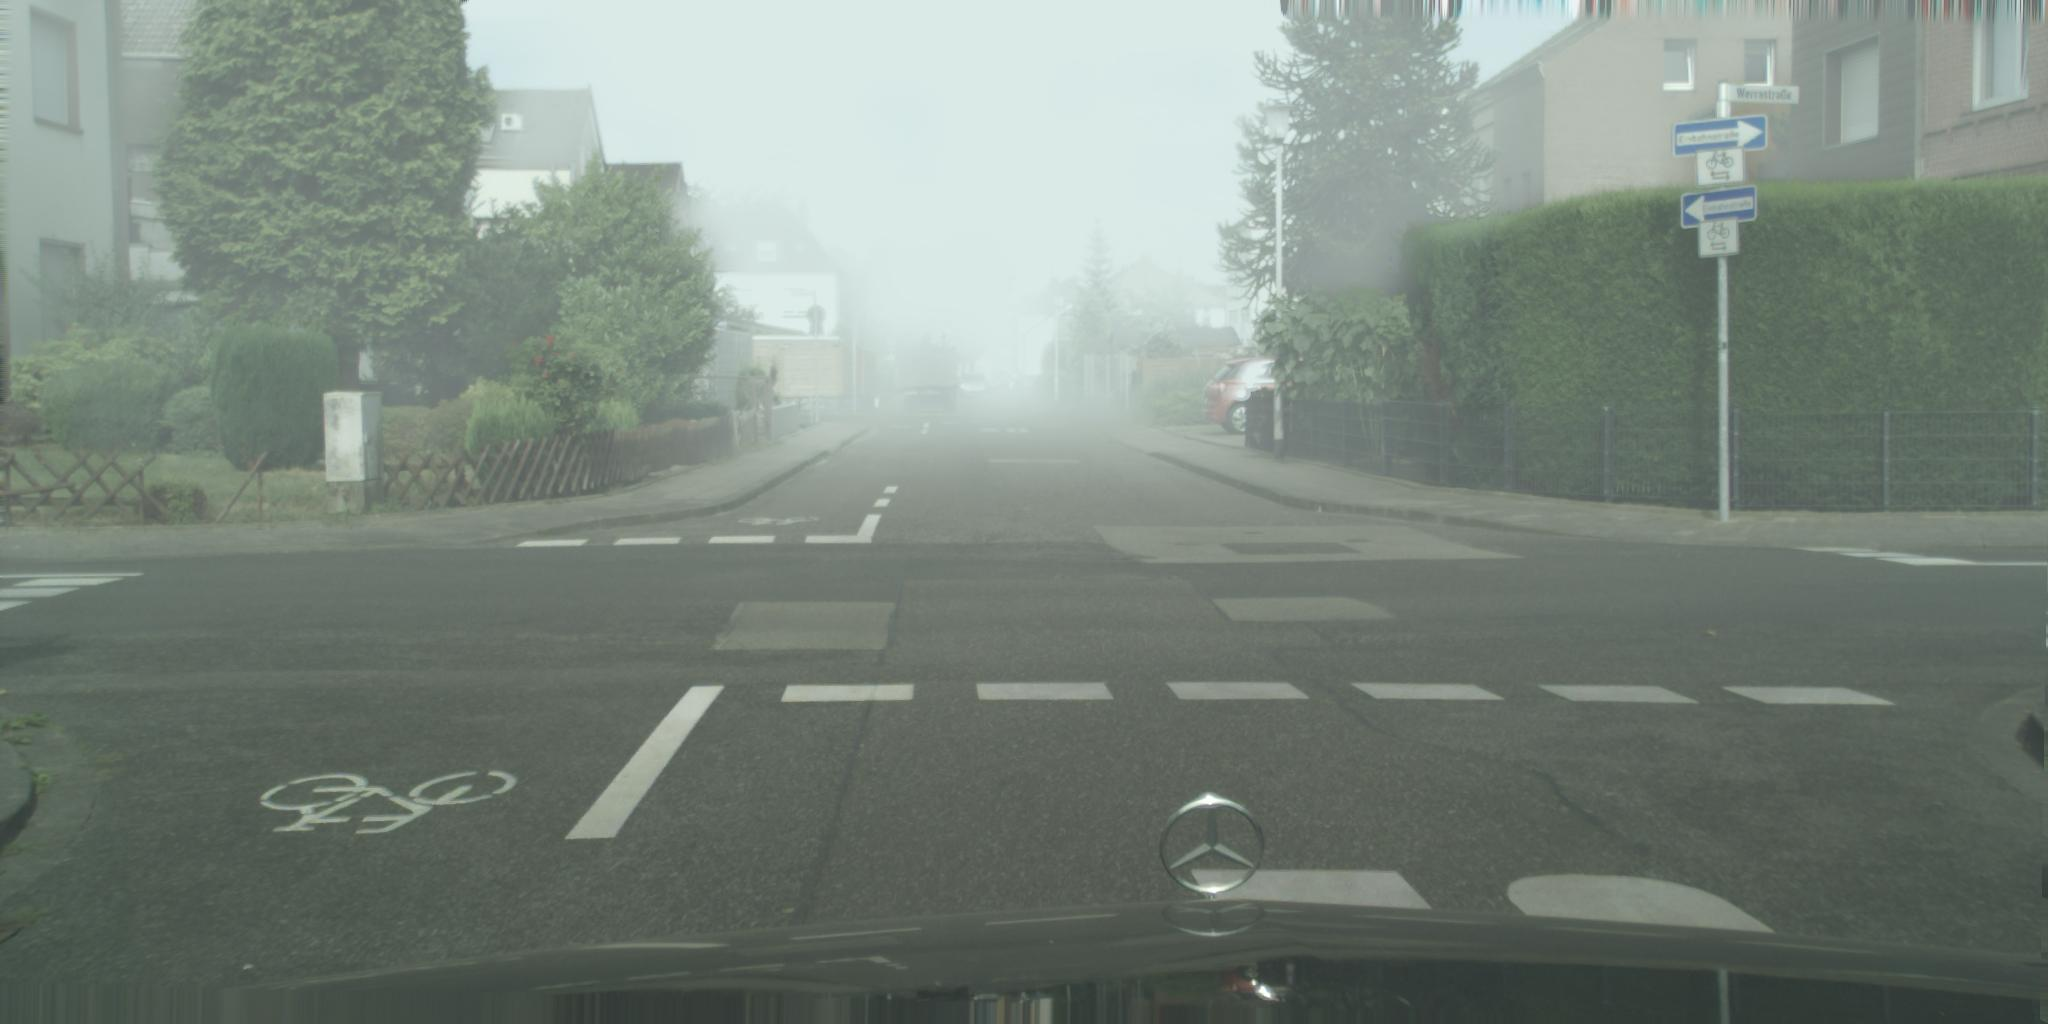car: (1202, 353, 1320, 435), (960, 372, 993, 400)
truck: (901, 347, 959, 414)
